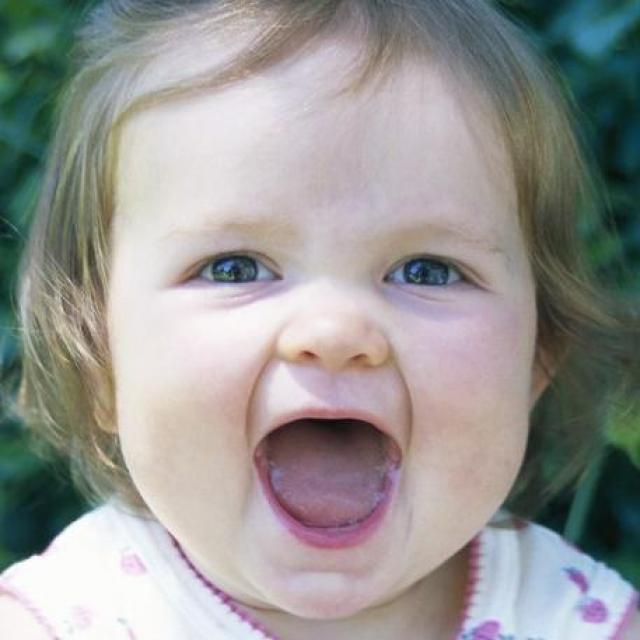surprised: (137, 52, 531, 601)
